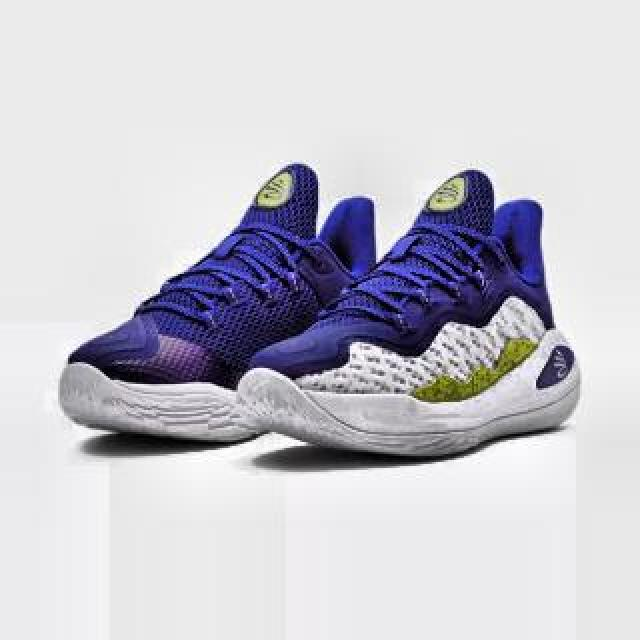shoe: (237, 168, 581, 460), (60, 162, 388, 440)
